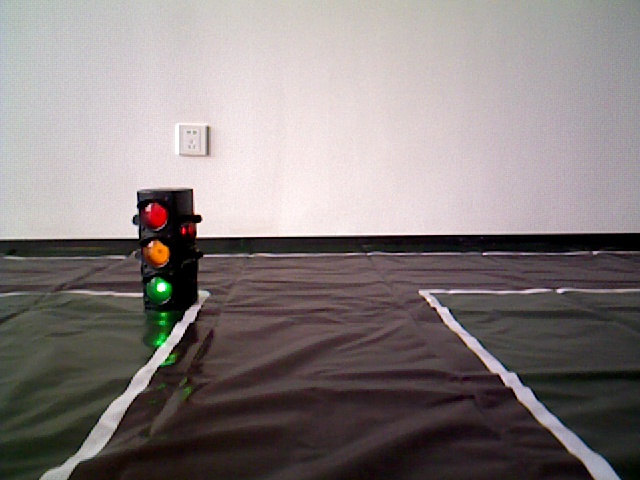green: (141, 190, 193, 302)
